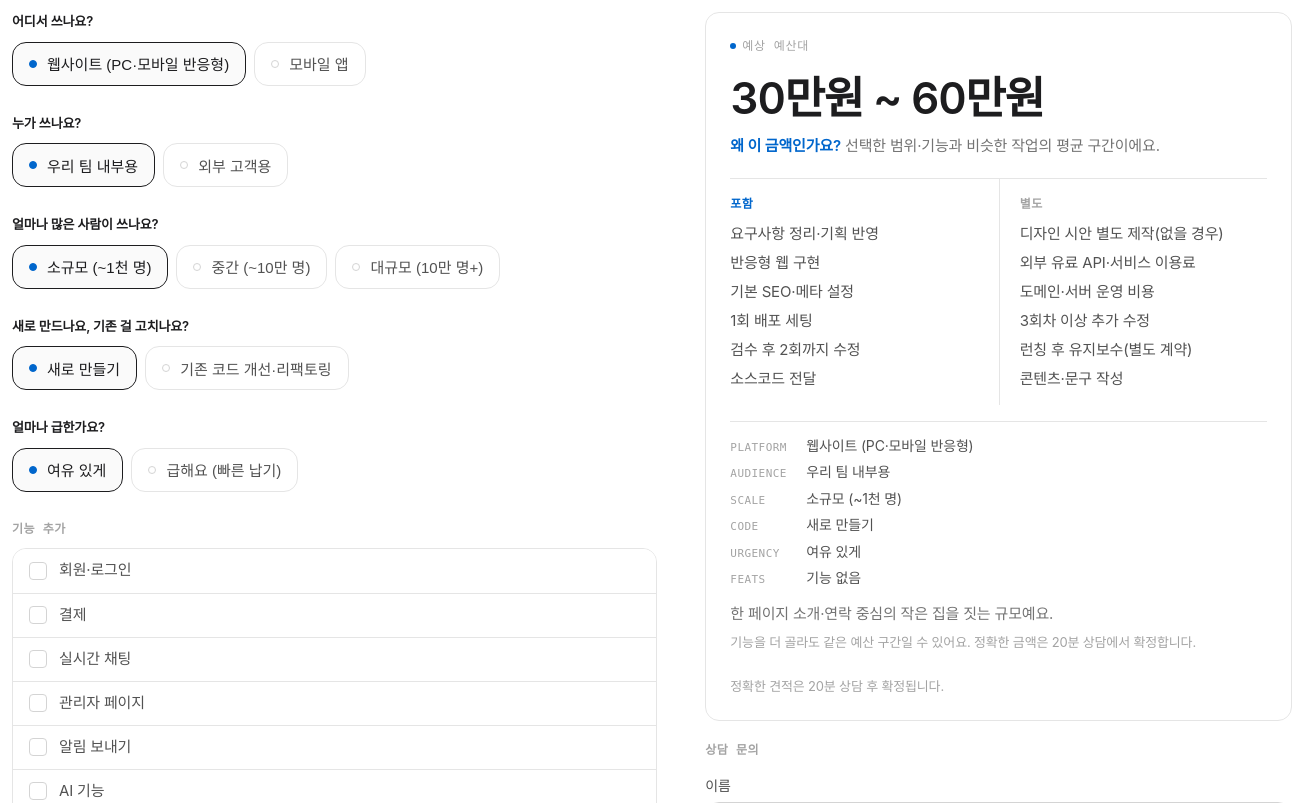
it: Configurator › 리팩토링 선택 시 상담 필요로 분기
What coordinates should you click on to do the following:
click the radio button labelled "기존 코드 개선·리팩토링"
I would click on:
 (247, 368)
Its box is [145,346,348,390].
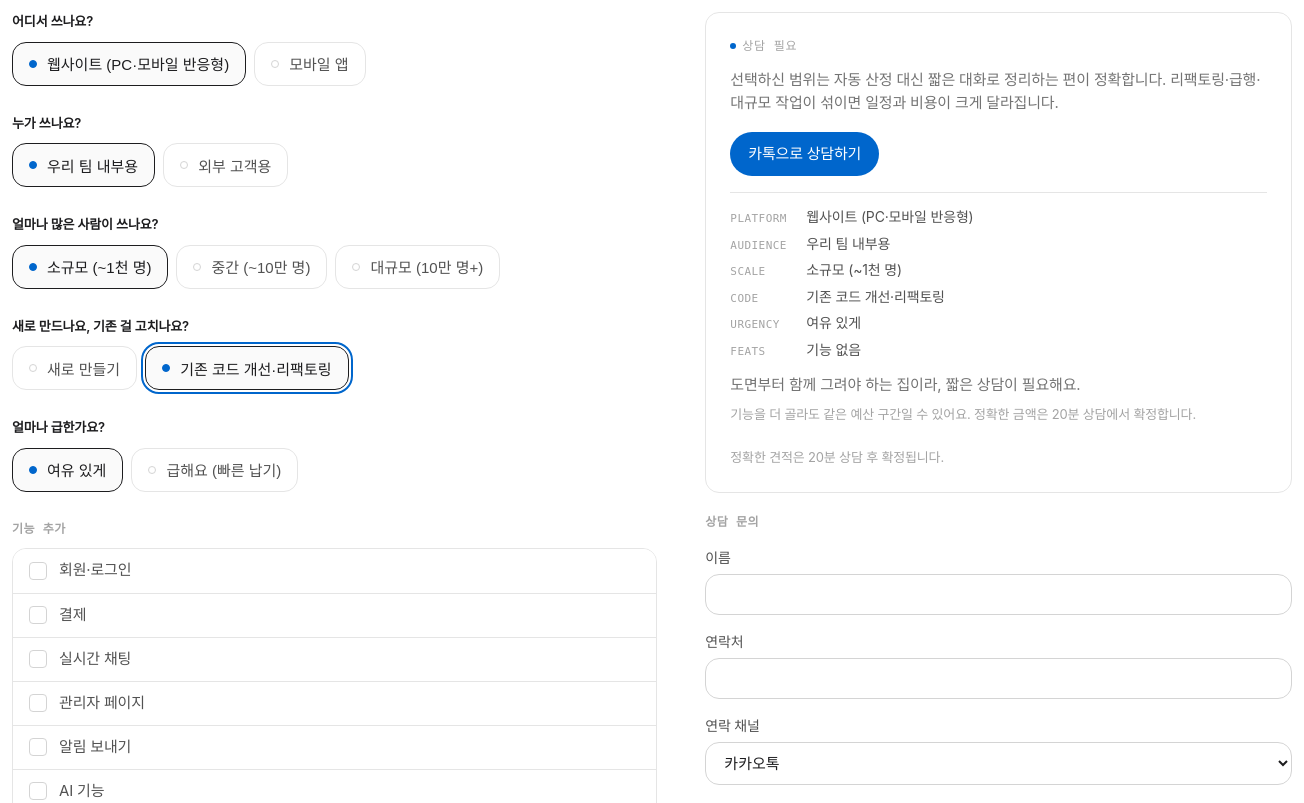
Now the text "상담 필요" is shown, box [730,39,797,53]
Now the text "만원" is gone
